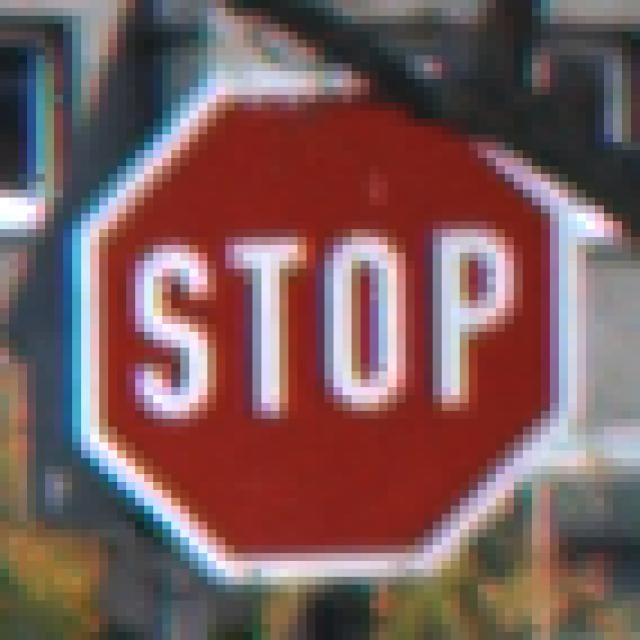STOP: (64, 64, 587, 586)
